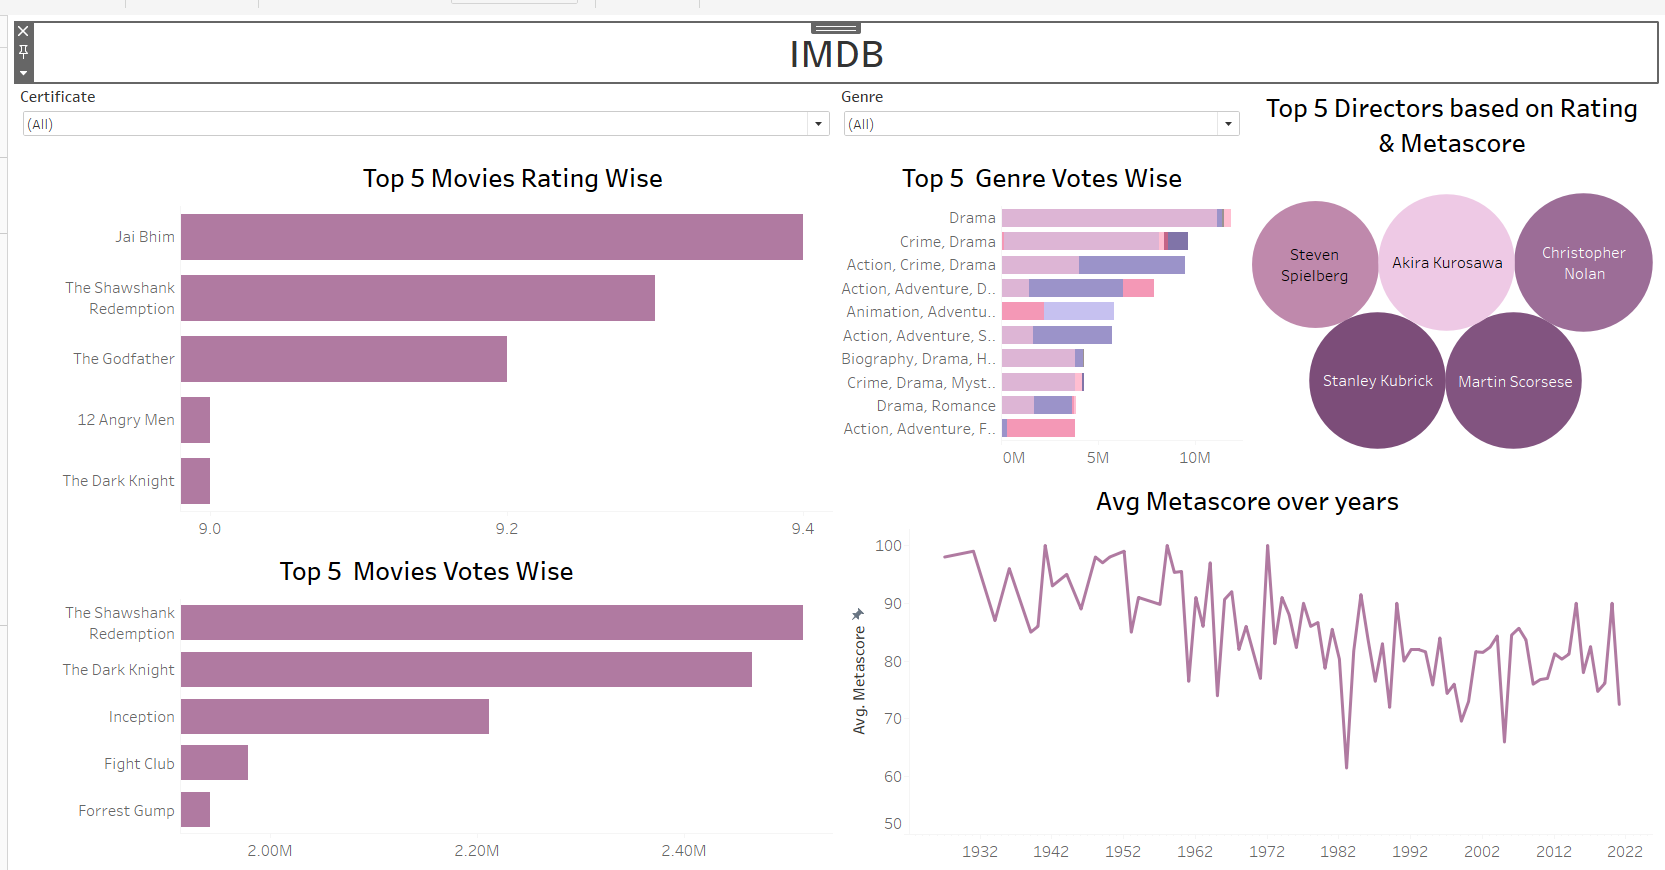

Layout of this report page (visuals, bound fields, positions):
{"tool":"tableau","page":{"name":"Dashboard 1","canvas":[1000,1000],"units":"permille","ordinal":0},"visuals":[{"type":"title","box":[4.8,9.3,990.3,68.5]},{"type":"filter","title":"Top 5 Movies Rating Wise","param":"[federated.115cyry1hu93o9189stgk1qnp18p].[none:certificate:nk]","box":[4.8,77.8,495.2,81]},{"type":"filter","title":"Top 5 Movies Rating Wise","param":"[federated.115cyry1hu93o9189stgk1qnp18p].[none:genre:nk]","box":[500,77.8,247.5,81]},{"type":"worksheet","title":"Top 5 Directors based on Rating & Metascore","mark":"Circle","box":[747.5,77.8,247.7,456.4]},{"type":"worksheet","title":"Top 5 Movies Rating Wise","mark":"Automatic","rows":["movie name "],"cols":["RATING"],"box":[4.8,158.8,495.2,456.4]},{"type":"worksheet","title":"Top 5  Genre Votes Wise","mark":"Automatic","rows":["genre"],"cols":["votes"],"box":[500,158.8,247.5,375.4]},{"type":"worksheet","title":"Avg Metascore over years","mark":"Automatic","rows":["metascore"],"cols":["Year"],"box":[500,534.2,495.2,456.5]},{"type":"worksheet","title":"Top 5  Movies Votes Wise","mark":"Automatic","rows":["movie name "],"cols":["votes"],"box":[4.8,615.3,495.2,375.4]}]}

Visuals, with their boxes on the dashboard's canvas, which has no fixed pixel size, in thousandths of its width and height (x1, y1, x2, y2). These are canvas units, not pixel positions in the 1665x870 screenshot, which may show the page scaled, cropped or inside an application window:
title: [left=5, top=9, right=995, bottom=78]
"Top 5 Movies Rating Wise" filter: [left=5, top=78, right=500, bottom=159]
"Top 5 Movies Rating Wise" filter: [left=500, top=78, right=748, bottom=159]
"Top 5 Directors based on Rating & Metascore" worksheet (Circle marks): [left=748, top=78, right=995, bottom=534]
"Top 5 Movies Rating Wise" worksheet: [left=5, top=159, right=500, bottom=615]
"Top 5  Genre Votes Wise" worksheet: [left=500, top=159, right=748, bottom=534]
"Avg Metascore over years" worksheet: [left=500, top=534, right=995, bottom=991]
"Top 5  Movies Votes Wise" worksheet: [left=5, top=615, right=500, bottom=991]
